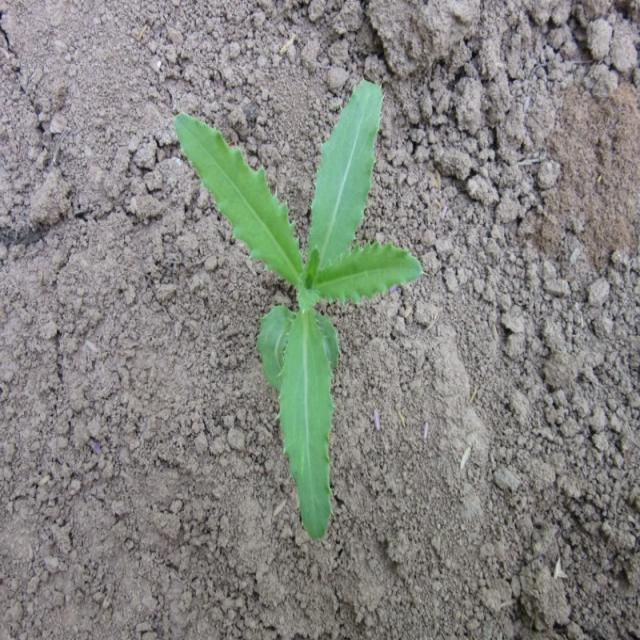field_thistle: (151, 64, 405, 548)
